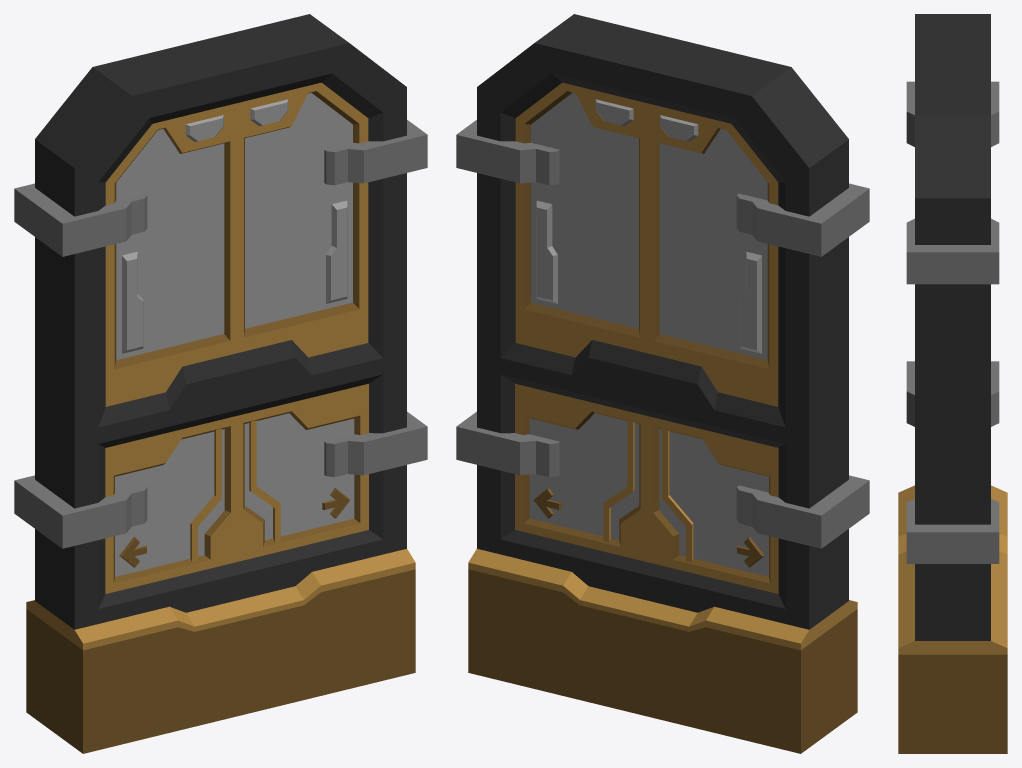
The model's file is Door_Single.glb.
The picture shows the model from 3 angles, left to right: view 1: azimuth 30°, elevation 25°; view 2: azimuth 150°, elevation 25°; view 3: azimuth 270°, elevation 25°; orthographic projection. The views are drawn at different scales.
Parts seen in each view (by area): view 1: Door_Single; view 2: Door_Single; view 3: Door_Single.
Boxes of the visible parts, x1,y1,x2,y2 form: Door_Single: (14,14,427,753); Door_Single: (456,14,869,753); Door_Single: (898,14,1007,753).
Bounding box in the file's own units: 0.5689 × 0.949 × 0.1535.
